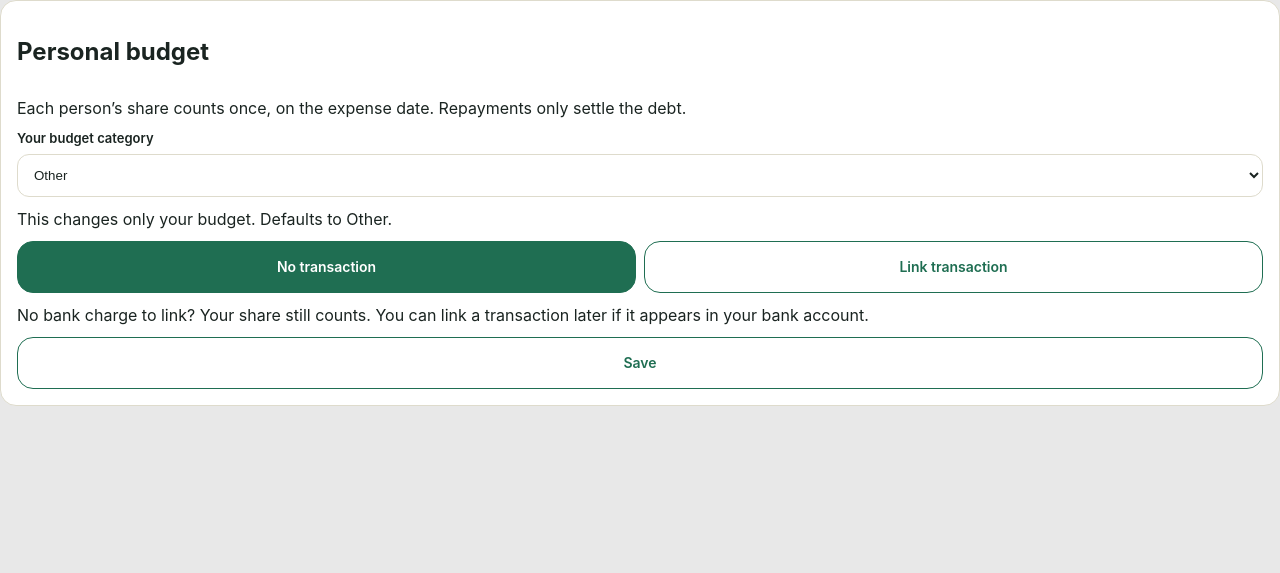
Test: lets the payer link a transaction without changing the expense category
The image size is (1280, 573).
Click the button "Link transaction".
click(954, 267)  # box [644,241,1263,293]
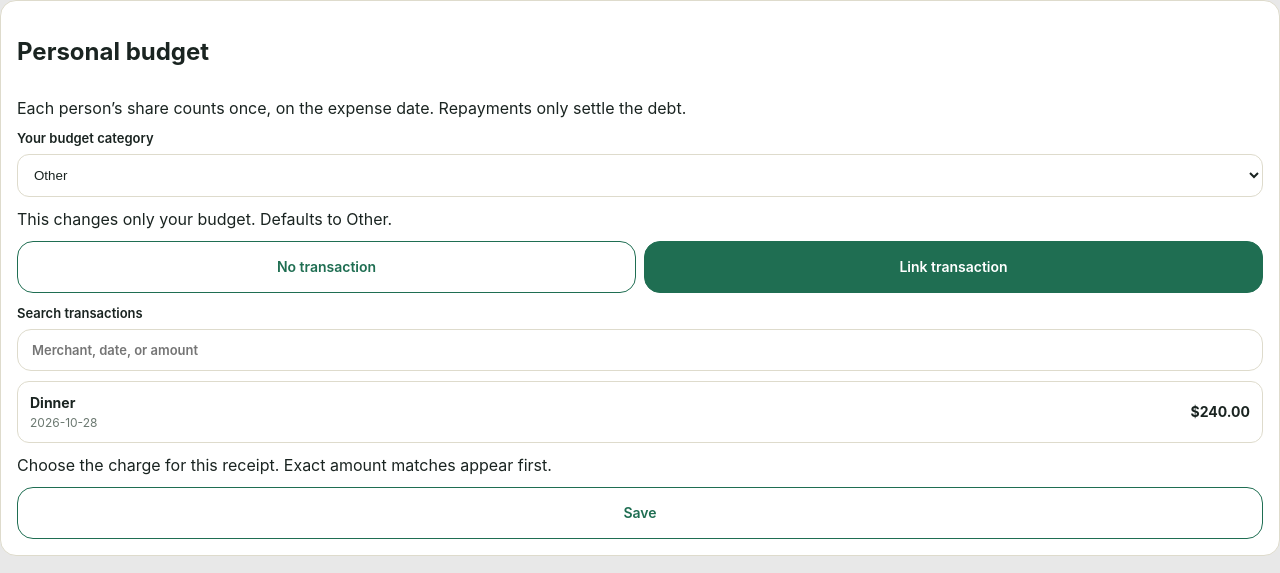
Click the button "Dinner 2026-10-28 $240.00".
click(53, 402)  # box [17,381,1263,443]
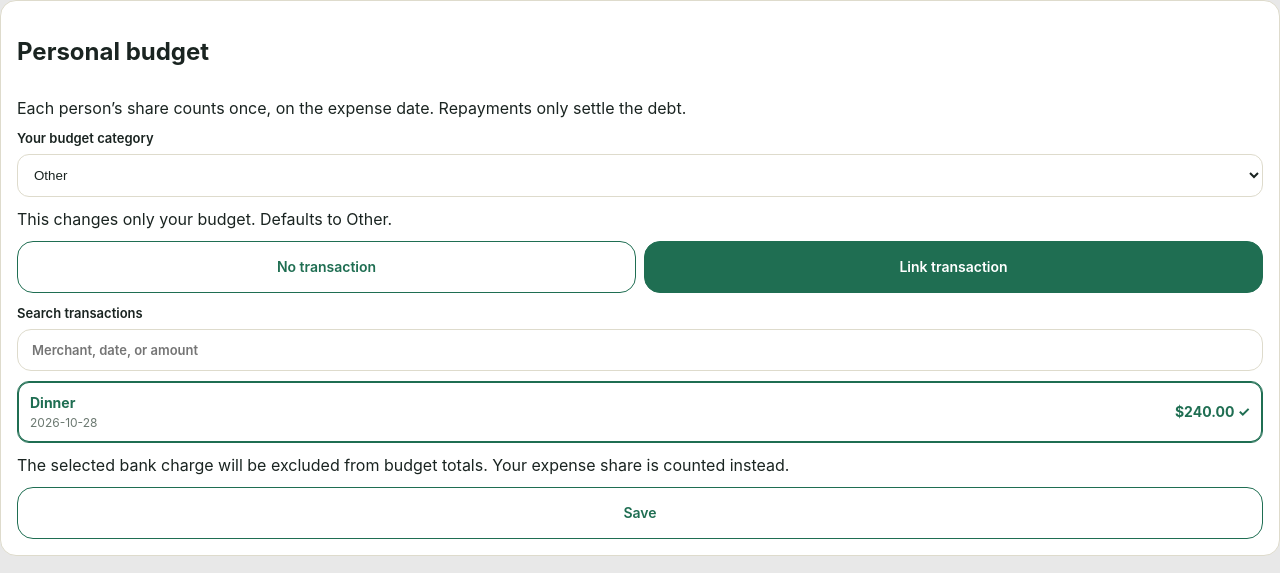
Check: the dropdown labelled "Your budget category" is shown, box [17,154,1263,197]
Click the button "Save".
click(640, 513)  # box [17,487,1263,539]
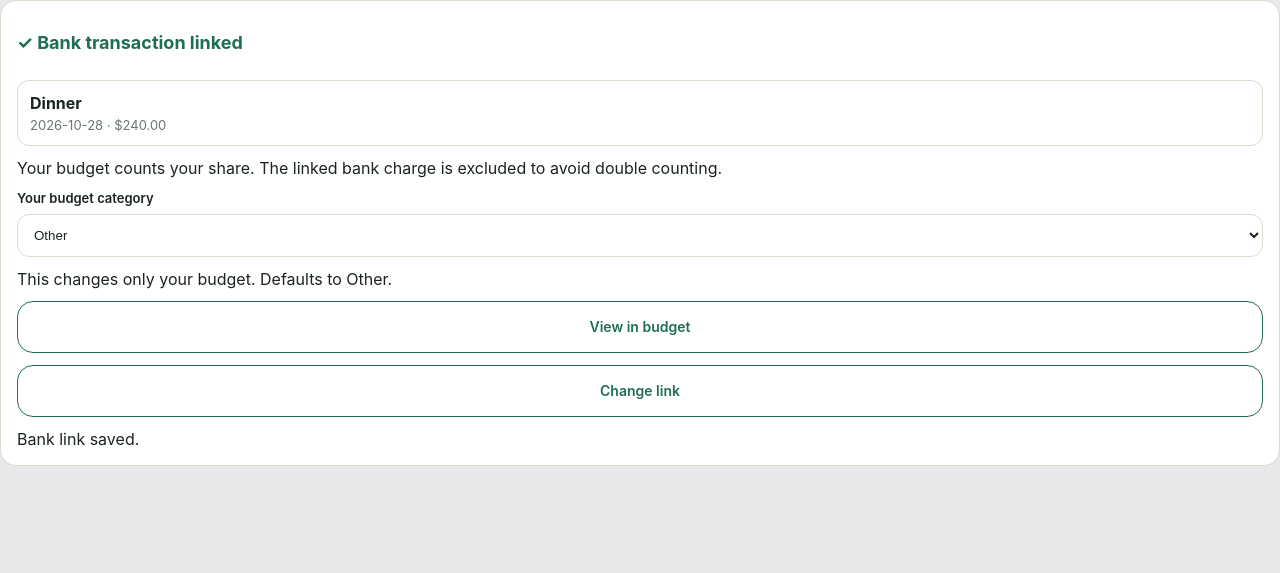
Check: the message shows "Bank link saved", box [17,429,139,449]
Check: the heading "✓ Bank transaction linked" is shown, box [17,32,243,53]
